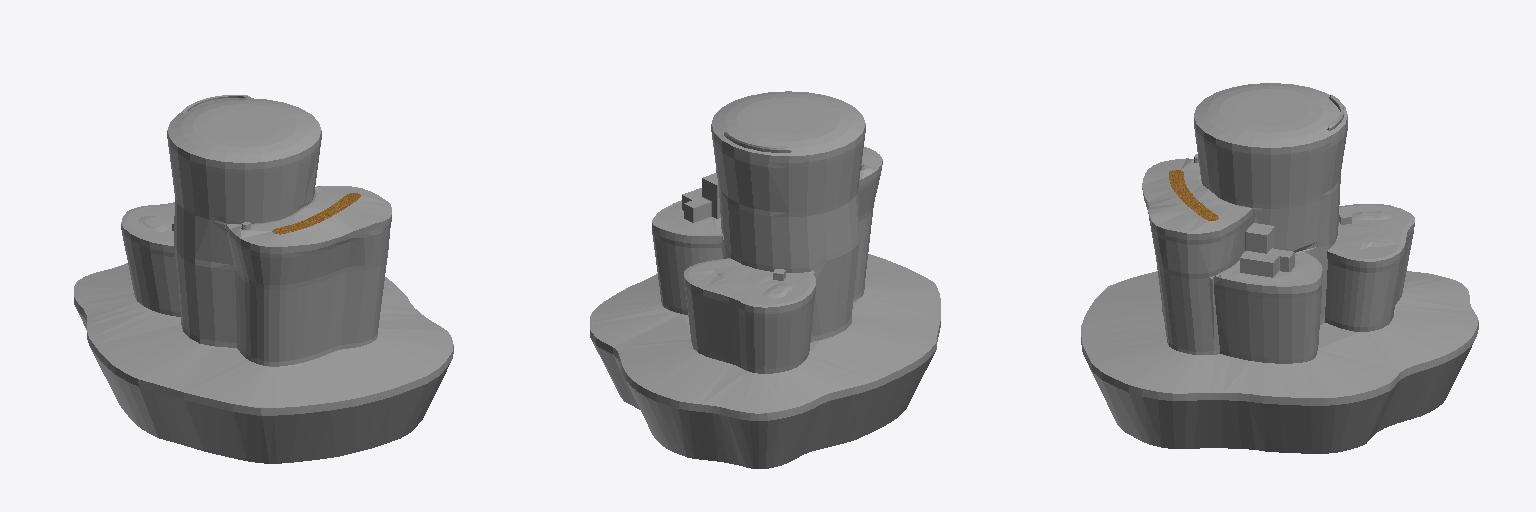
3 renders of one model, left to right at view 1: azimuth 30°, elevation 25°; view 2: azimuth 150°, elevation 25°; view 3: azimuth 270°, elevation 25°, orthographic.
Parts seen in each view (by area): view 1: Circle.003_Circle.009, Circle.000_Circle.022, Circle.001_Circle.023; view 2: Circle.003_Circle.009, Circle.000_Circle.022; view 3: Circle.003_Circle.009, Circle.000_Circle.022, Circle.001_Circle.023.
Boxes of the visible parts, x1=… form: Circle.003_Circle.009: x1=76, y1=95, x2=450, y2=463; Circle.000_Circle.022: x1=74, y1=98, x2=453, y2=415; Circle.001_Circle.023: x1=272, y1=193, x2=360, y2=234; Circle.003_Circle.009: x1=591, y1=131, x2=935, y2=468; Circle.000_Circle.022: x1=590, y1=91, x2=940, y2=420; Circle.003_Circle.009: x1=1089, y1=95, x2=1472, y2=453; Circle.000_Circle.022: x1=1081, y1=83, x2=1478, y2=405; Circle.001_Circle.023: x1=1169, y1=170, x2=1218, y2=220.
Bounding box in the file's own units: 4425 × 3965 × 5154.
8 materials, 1 textured.